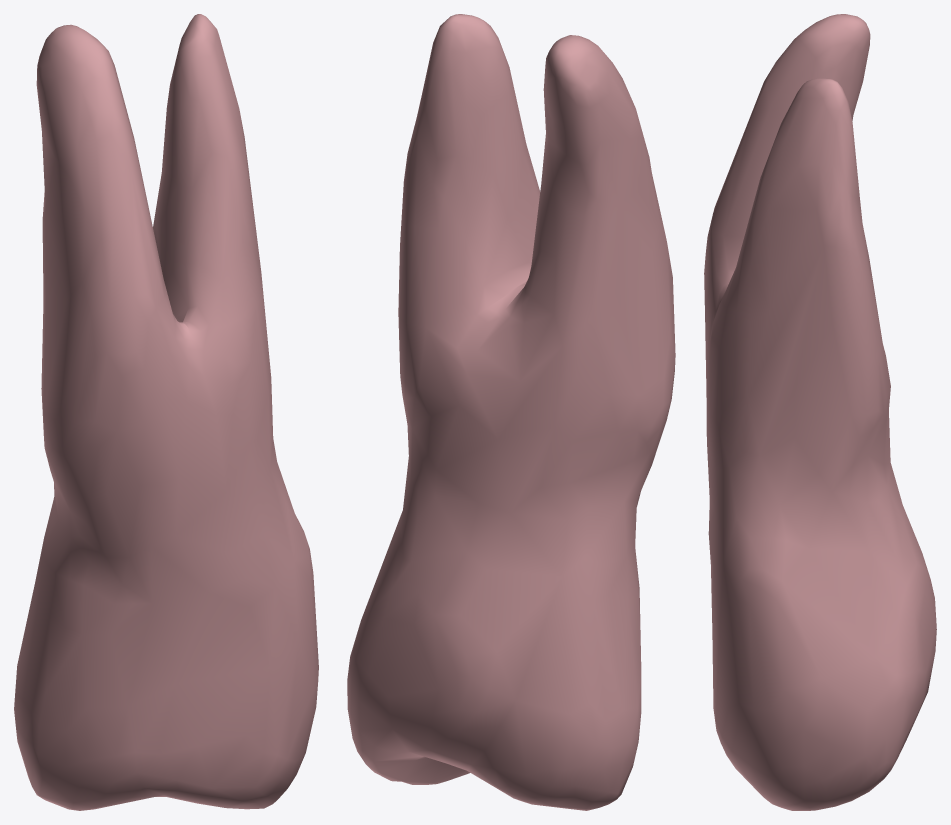
Rendered from fma55691_fj1264.glb.
The picture shows the model from 3 angles, left to right: view 1: azimuth 30°, elevation 25°; view 2: azimuth 150°, elevation 25°; view 3: azimuth 270°, elevation 25°; orthographic projection. The views are drawn at different scales.
Visible parts, largest first — view 1: FMA55691_FJ1264; view 2: FMA55691_FJ1264; view 3: FMA55691_FJ1264.
Part boxes in pixels (x1,y1,x2,y2): FMA55691_FJ1264: (14, 14, 318, 810); FMA55691_FJ1264: (347, 14, 675, 810); FMA55691_FJ1264: (704, 14, 936, 810).
Size of the model in its own units: 0.0093 by 0.0259 by 0.00758.
